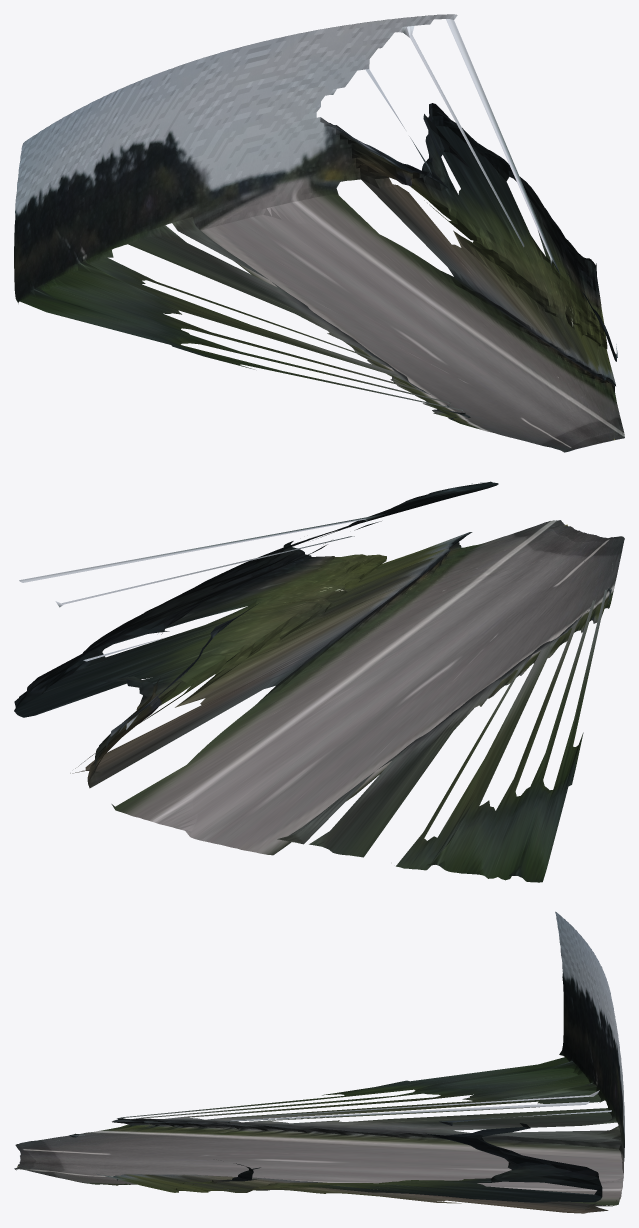
3 views of the same model, one above another, from view 1: azimuth 30°, elevation 25°; view 2: azimuth 150°, elevation 25°; view 3: azimuth 270°, elevation 25° (orthographic). The views are drawn at different scales.
Visible parts, largest first — view 1: defaultobject; view 2: defaultobject; view 3: defaultobject.
Part boxes in pixels (<box>): defaultobject: <box>14,14,624,452</box>; defaultobject: <box>14,481,624,882</box>; defaultobject: <box>14,911,624,1213</box>.
Size of the model in its own units: 34.35 by 12.86 by 44.88.
1 material, 1 textured.
